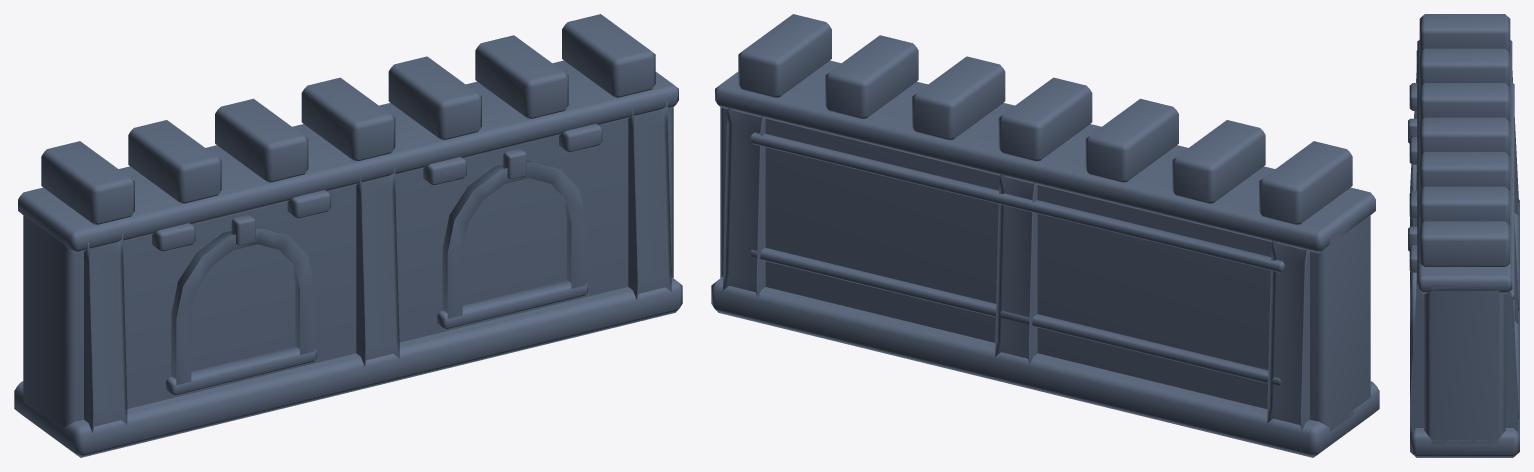
The model's file is FortressWallStraight.fbx.
3 renders of one model, left to right at view 1: azimuth 30°, elevation 25°; view 2: azimuth 150°, elevation 25°; view 3: azimuth 270°, elevation 25°, orthographic. The views are drawn at different scales.
Visible parts, largest first — view 1: FortressWallStraight_Mesh; view 2: FortressWallStraight_Mesh; view 3: FortressWallStraight_Mesh.
Boxes of the visible parts, x1,y1,x2,y2 form: FortressWallStraight_Mesh: [14, 14, 682, 457]; FortressWallStraight_Mesh: [711, 14, 1379, 457]; FortressWallStraight_Mesh: [1408, 14, 1519, 457].
Size of the model in its own units: 7.72 by 3.2 by 1.5.
